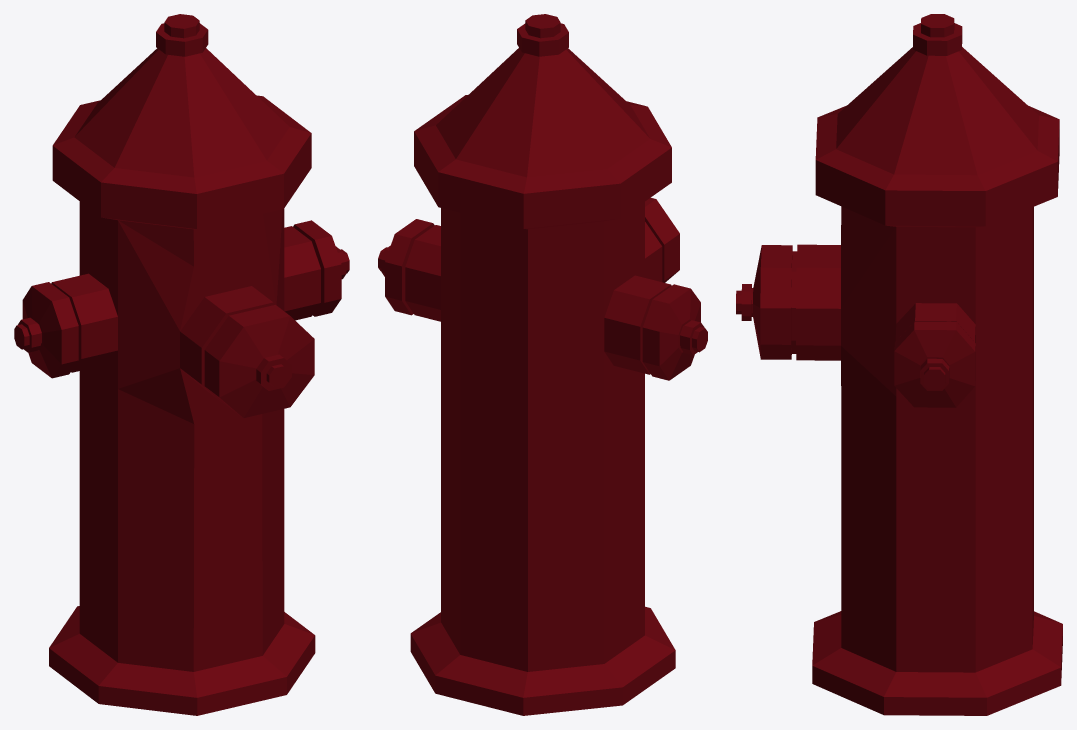
File: hydrant.dae
3 views of the same model, side by side, from view 1: azimuth 30°, elevation 25°; view 2: azimuth 150°, elevation 25°; view 3: azimuth 270°, elevation 25° (orthographic).
Parts seen in each view (by area): view 1: Cylinder; view 2: Cylinder; view 3: Cylinder.
Part boxes in pixels (x1,y1,x2,y2): Cylinder: [14, 14, 349, 715]; Cylinder: [378, 14, 707, 715]; Cylinder: [736, 14, 1062, 715].
Bounding box in the file's own units: 1.73 × 1.51 × 3.28.
